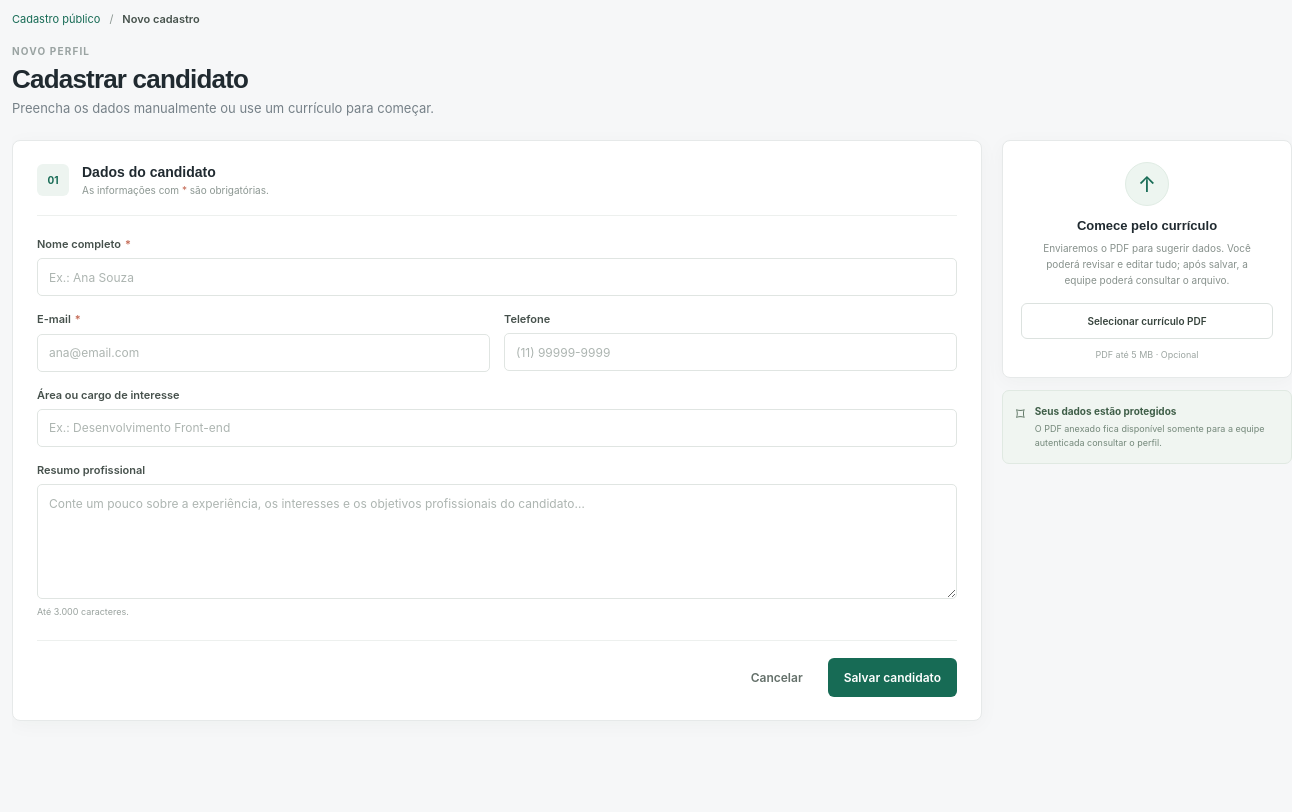
formulário de cadastro › valida campos obrigatórios no mesmo formulário
Click the button "Salvar candidato".
click(892, 677)  # box top-left (828, 658), bottom-right (957, 697)
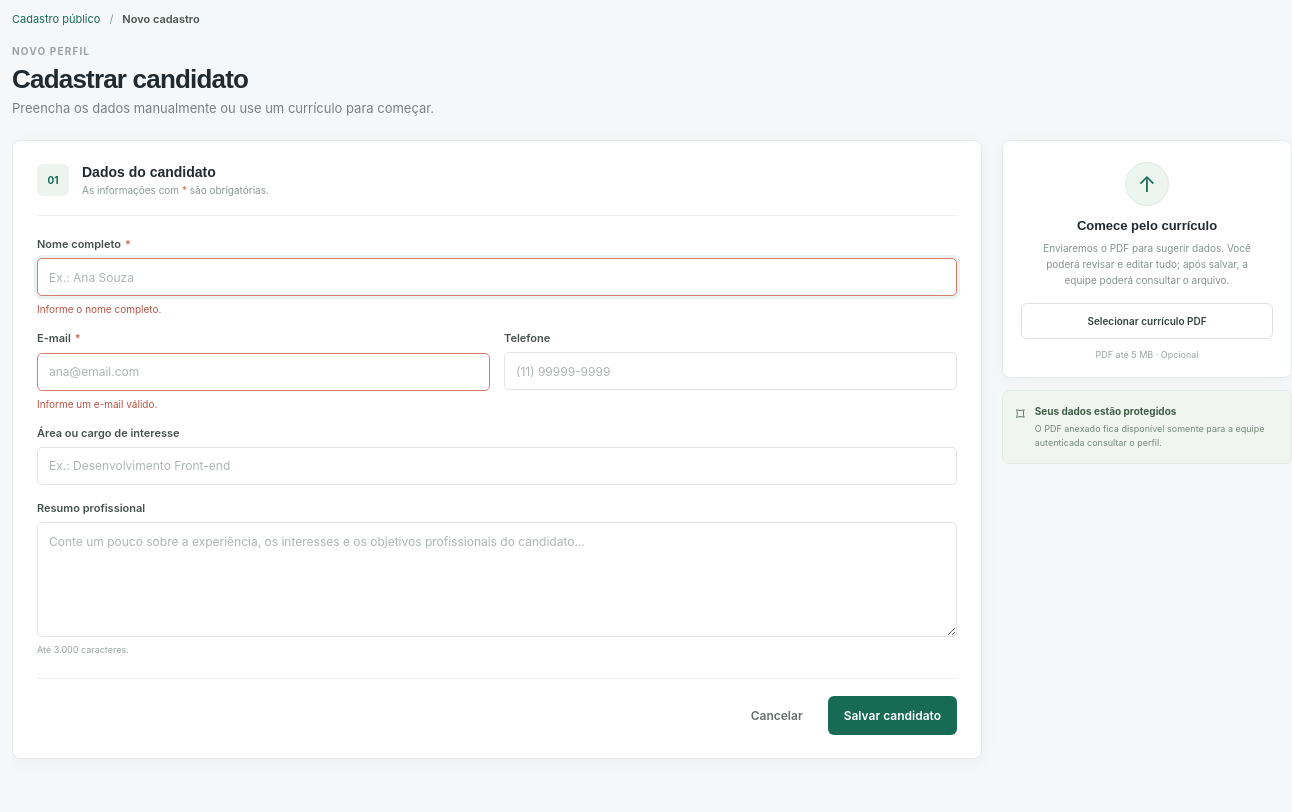
Result: the text "Informe o nome completo." is shown at top-left (37, 303), bottom-right (161, 315)
Result: the text "Informe um e-mail válido." is shown at top-left (37, 398), bottom-right (157, 410)
